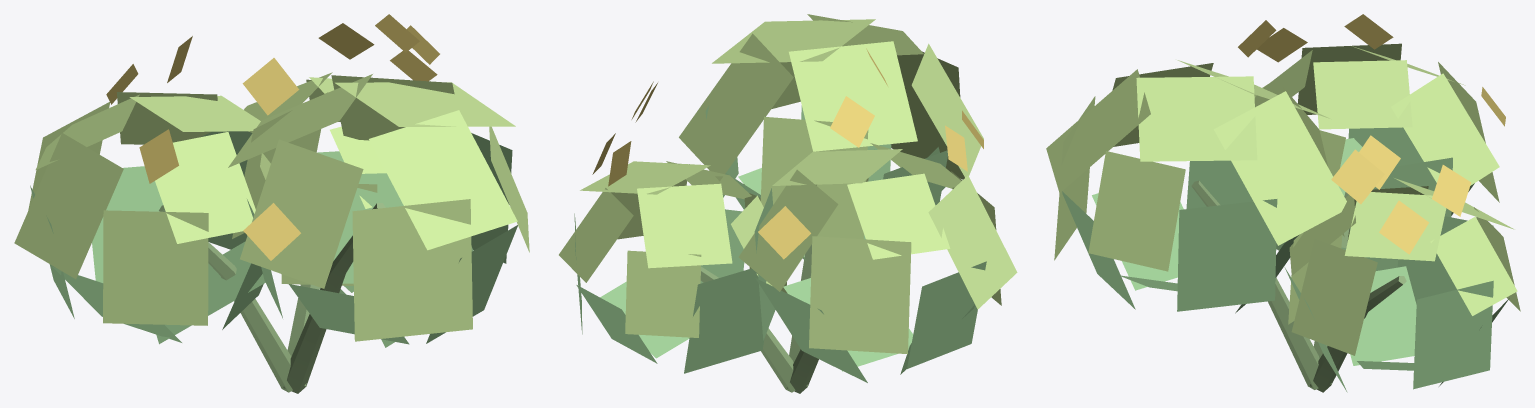
The model's file is plant_flower_b.glb.
3 renders of one model, left to right at view 1: azimuth 30°, elevation 25°; view 2: azimuth 150°, elevation 25°; view 3: azimuth 270°, elevation 25°, orthographic. The views are drawn at different scales.
Parts seen in each view (by area): view 1: plant_flower_b; view 2: plant_flower_b; view 3: plant_flower_b.
Boxes of the visible parts, x1=… form: plant_flower_b: x1=14, y1=14, x2=529, y2=393; plant_flower_b: x1=559, y1=14, x2=1017, y2=393; plant_flower_b: x1=1046, y1=14, x2=1520, y2=392.
Bounding box in the file's own units: 1.87 × 1.51 × 1.88.
